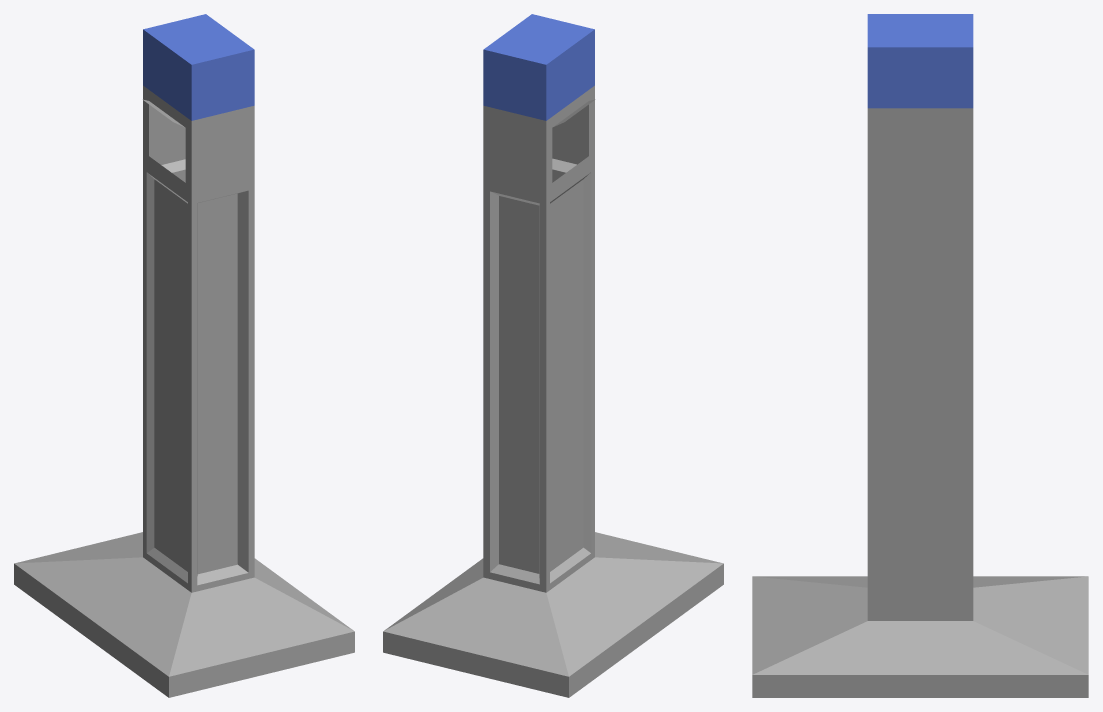
Rendered from Pasangan .glb.
3 renders of one model, left to right at view 1: azimuth 30°, elevation 25°; view 2: azimuth 150°, elevation 25°; view 3: azimuth 270°, elevation 25°, orthographic. The views are drawn at different scales.
Visible parts, largest first — view 1: sidething_2; view 2: sidething_2; view 3: sidething_2.
Boxes of the visible parts, bbox=[...] form: sidething_2: bbox=[14, 14, 354, 697]; sidething_2: bbox=[383, 14, 723, 697]; sidething_2: bbox=[752, 14, 1088, 697].
Size of the model in its own units: 0.6931 by 2.05 by 1.
